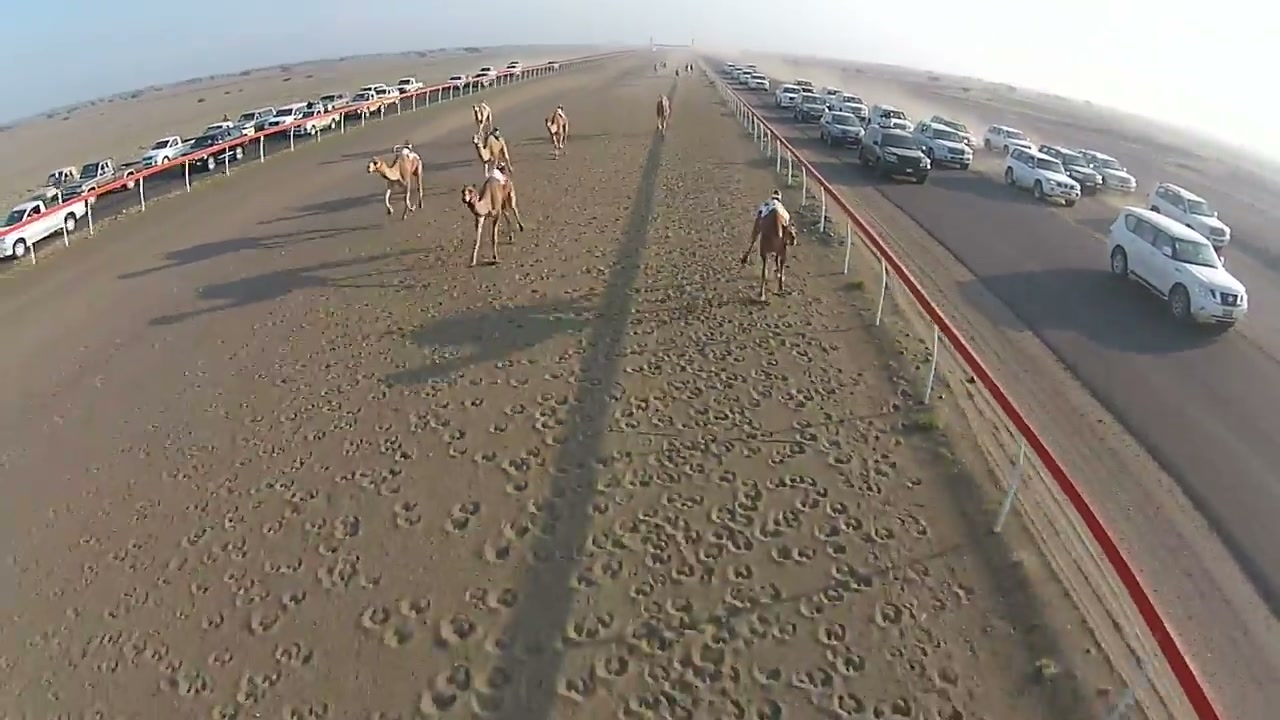animal_footprint: (0, 86, 1121, 719), (588, 338, 927, 716), (316, 543, 378, 591), (228, 669, 283, 710), (508, 628, 564, 666), (469, 669, 513, 717), (416, 675, 466, 717), (563, 613, 616, 646), (690, 635, 737, 671), (526, 495, 562, 536), (436, 613, 479, 647), (163, 668, 212, 697), (464, 586, 518, 612), (432, 663, 473, 695), (826, 645, 866, 676), (474, 663, 512, 695), (831, 563, 874, 591), (593, 653, 632, 682), (557, 674, 597, 702), (828, 691, 866, 719), (447, 501, 481, 532), (274, 642, 314, 667), (281, 700, 333, 719), (483, 627, 517, 656), (381, 619, 415, 647), (378, 435, 414, 461), (359, 605, 392, 633), (482, 537, 517, 563), (247, 608, 280, 635), (396, 597, 430, 621), (501, 517, 534, 541), (393, 500, 421, 528), (752, 663, 784, 687), (331, 515, 361, 540), (874, 602, 905, 626), (487, 587, 518, 611), (526, 543, 559, 565), (752, 697, 784, 719), (281, 588, 307, 613), (818, 623, 847, 645), (817, 584, 847, 604), (447, 433, 470, 457), (209, 702, 241, 719), (571, 570, 598, 590), (207, 648, 234, 667), (727, 564, 754, 582), (505, 476, 530, 494), (369, 710, 413, 719), (472, 450, 499, 463), (489, 420, 510, 433)
